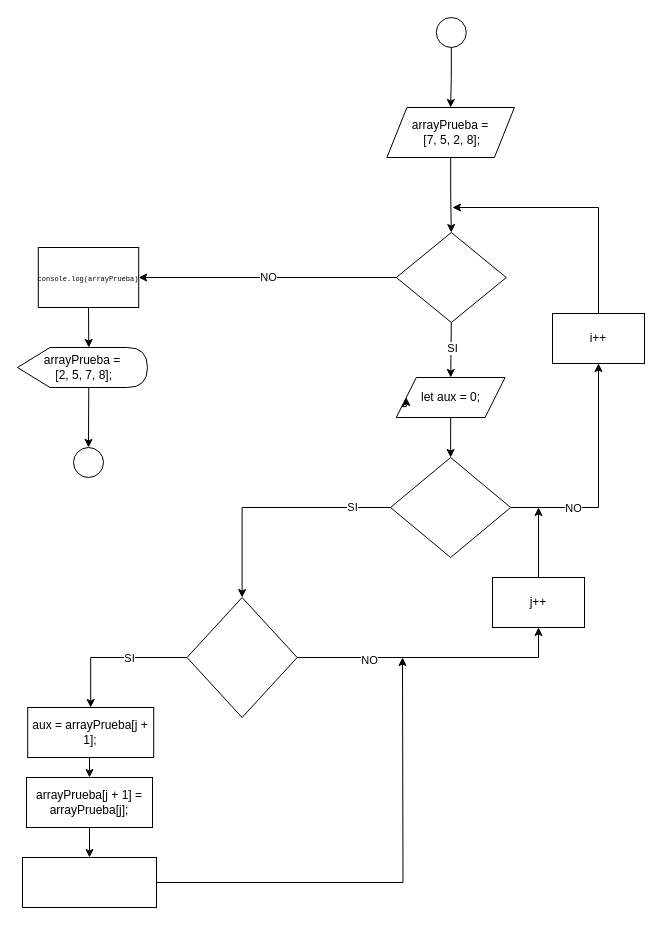
Some shapes in this 662 by 925 pixel diagram are drawn without their labels. Each missing label, with the centre of its shape:
"arrayPrueba[j + 1] < arrayPrueba[j]" goes at pixel 241 657.
"arrayPrueba[j] = aux;" goes at pixel 89 882.
"i < arrayPrueba .length" goes at pixel 450 277.
"j < arrayPrueba.length-i-1" goes at pixel 450 507.
